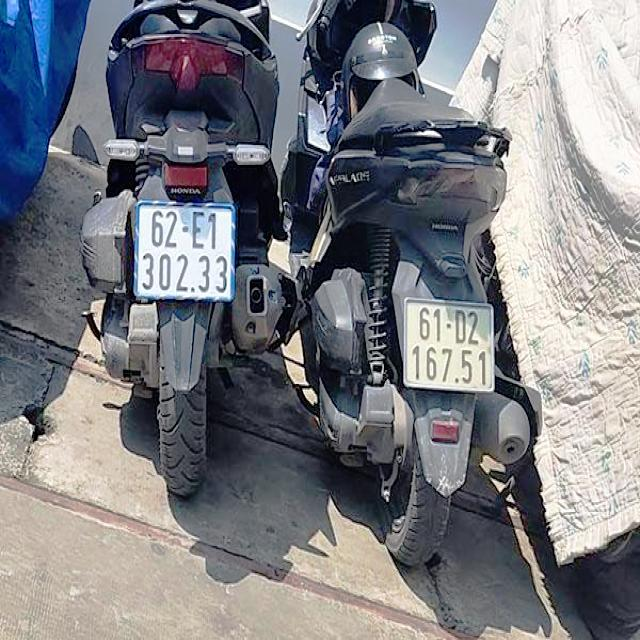license_plate: (136, 206, 234, 299), (137, 206, 231, 301), (407, 299, 494, 392)
